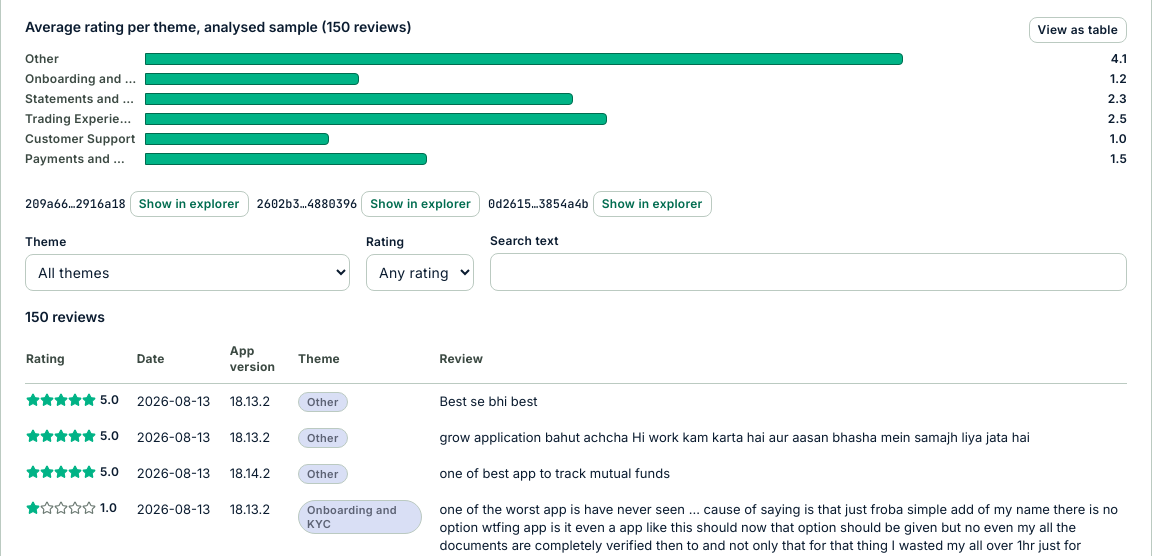
Test case: review explorer › jumps from a top quote to that review
(page scrolled)
Expected: the text "150 reviews" is shown, [25,308,105,325]
Step 1. Click the button "Show in explorer" next to "209a66…2916a18" → (189, 204), box [130,191,248,217]
(page scrolled)
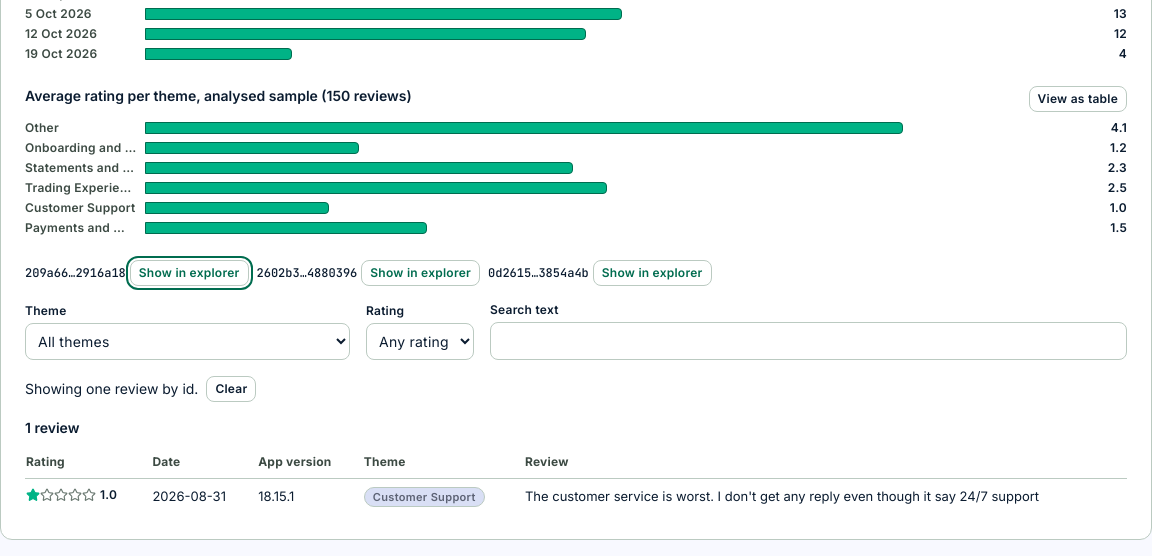
Now the text "1 review" is shown, box [25,419,79,436]
Now the text "Showing one review by id. Clear" is shown, box [25,376,256,402]
Step 2. Click the button "Clear" → (231, 389), box [206,376,256,402]
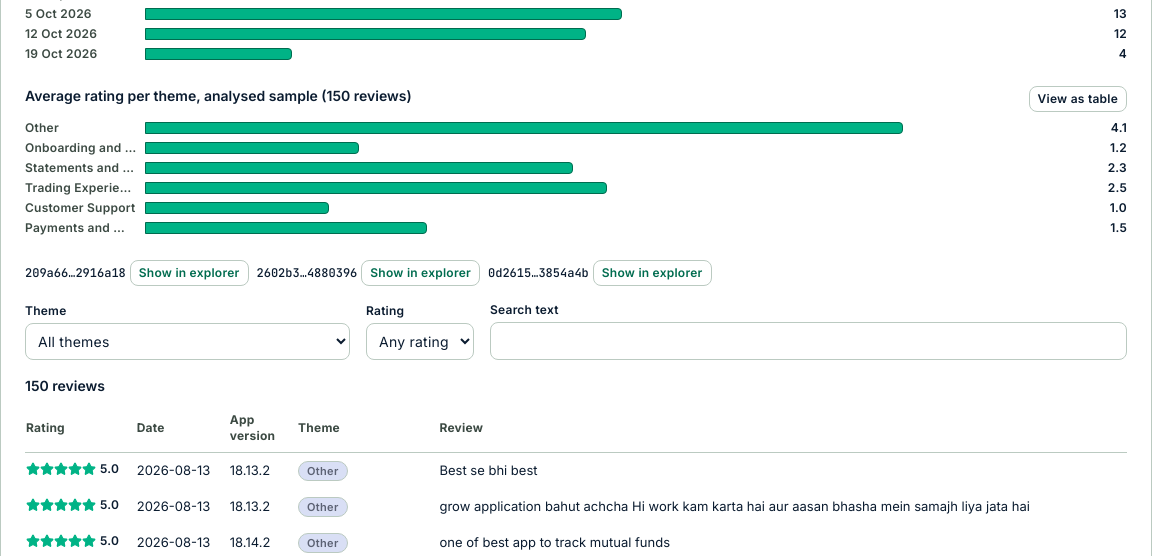
Now the text "150 reviews" is shown, box [25,377,105,394]
